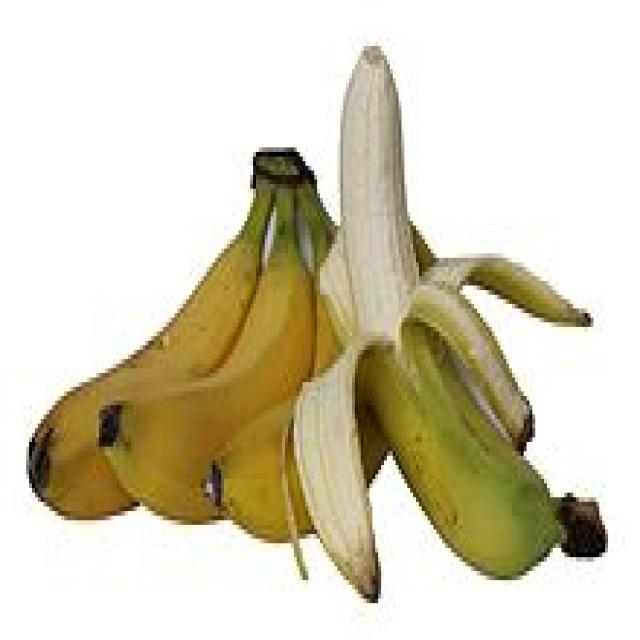Cascara de banano: (30, 55, 612, 599)
